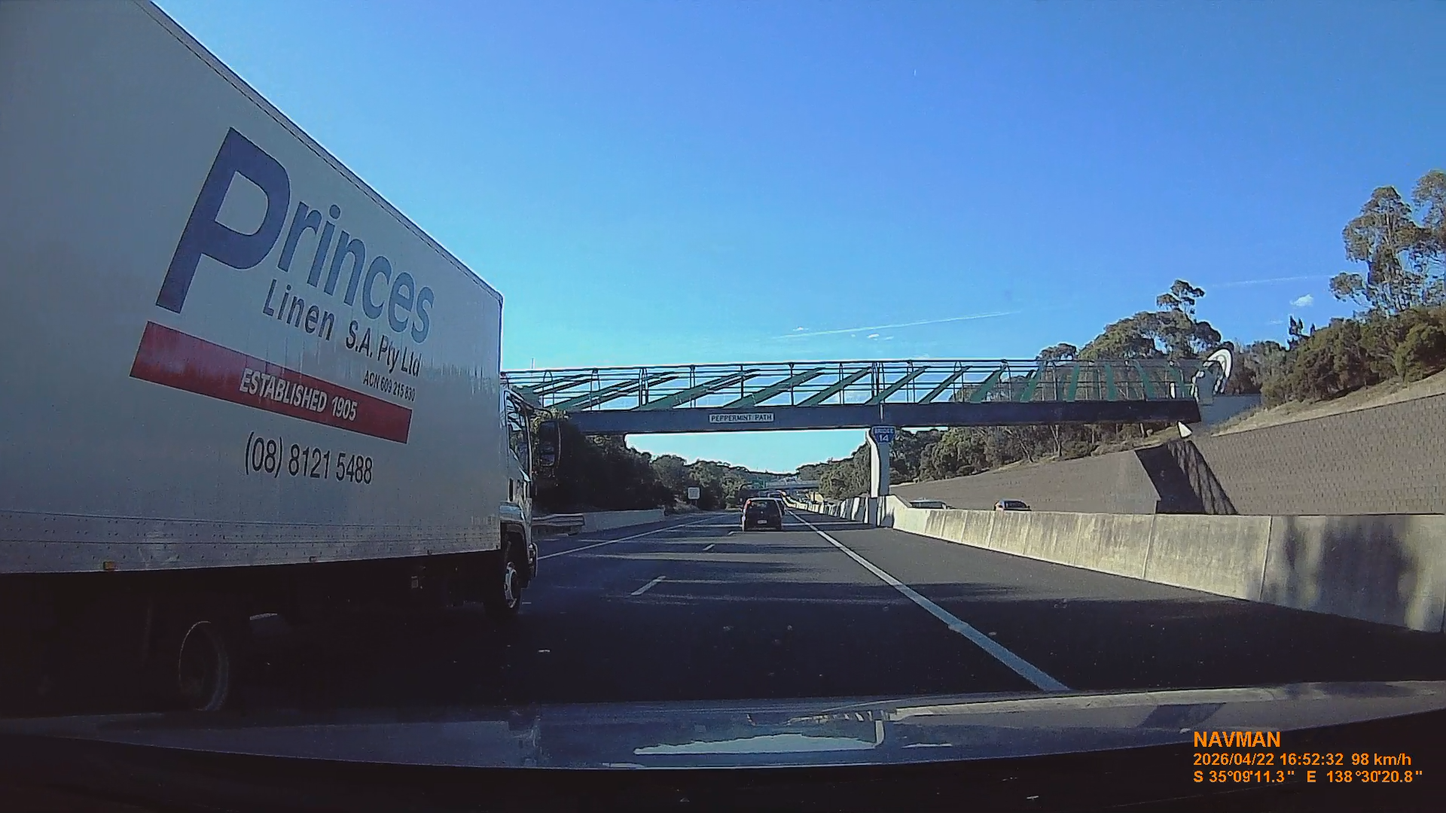road barriers: (878, 499, 1444, 627), (538, 510, 679, 538)
